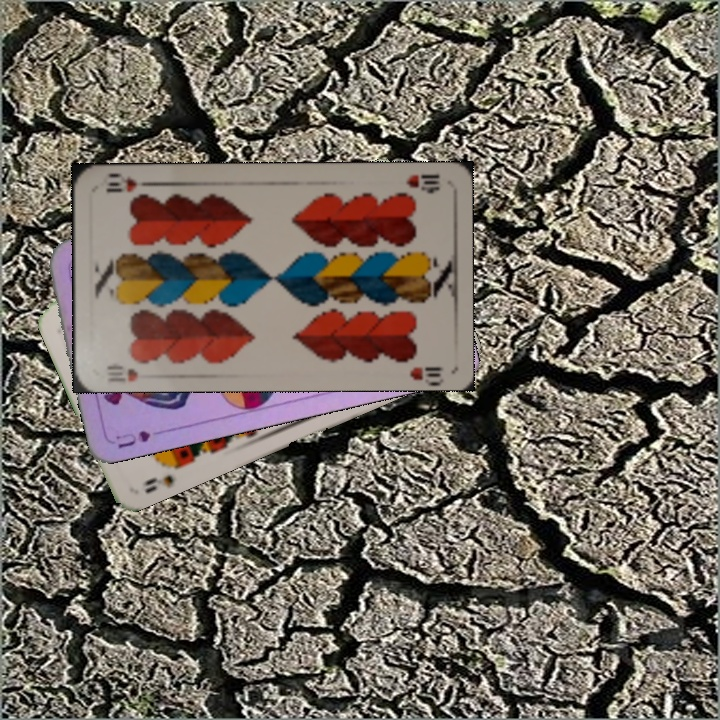H10: (402, 170, 442, 196), (103, 359, 140, 384)
S9: (141, 456, 188, 496)
SU: (111, 425, 171, 451)
